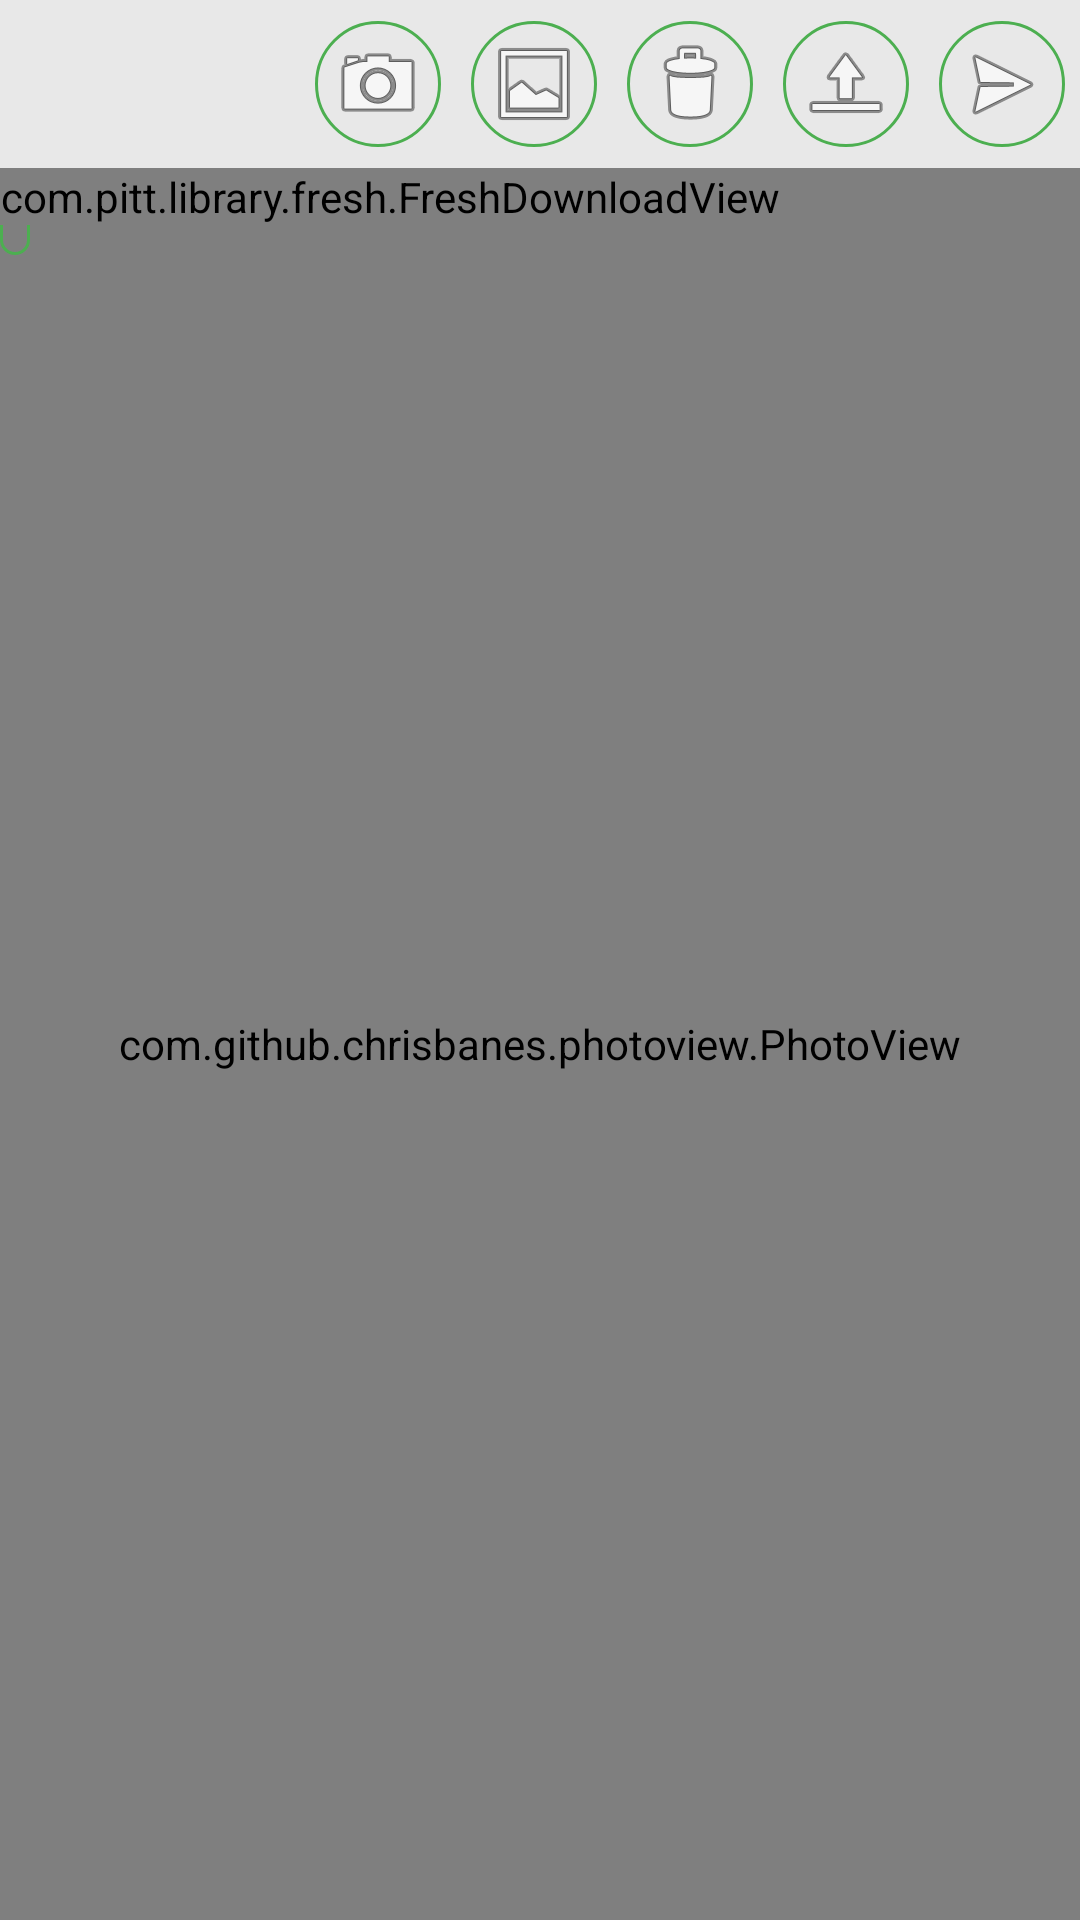

Screen size 1080px x 1920px. Icon name, then its center in pixels as point (x, y):
camera: point (378, 84)
delete: point (690, 84)
gallery: point (534, 84)
send: point (1002, 84)
upload: point (846, 84)
